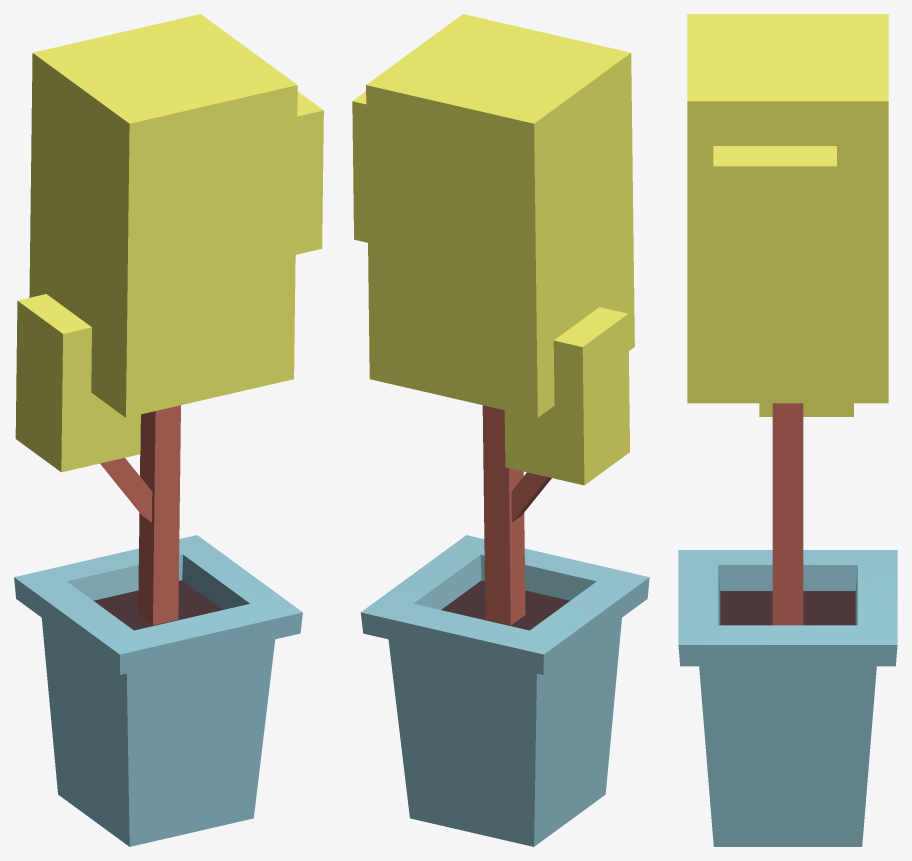
The model's file is Flowerplot.fbx.
3 renders of one model, left to right at view 1: azimuth 30°, elevation 25°; view 2: azimuth 150°, elevation 25°; view 3: azimuth 270°, elevation 25°, orthographic. The views are drawn at different scales.
Parts seen in each view (by area): view 1: pCube12.008, pCube12.002, pCube12.006, pCube12.007, pCube12.009, pCube12.003, pCube12.005, pCube12.004; view 2: pCube12.008, pCube12.002, pCube12.006, pCube12.003, pCube12.005, pCube12.009, pCube12.004; view 3: pCube12.008, pCube12.002, pCube12.009, pCube12.007, pCube12.005, pCube12.006.
Boxes of the visible parts, x1,y1,x2,y2 form: pCube12.008: (29, 14, 297, 417); pCube12.002: (14, 535, 302, 846); pCube12.006: (15, 294, 140, 472); pCube12.007: (153, 405, 180, 625); pCube12.009: (295, 91, 323, 254); pCube12.003: (138, 411, 155, 625); pCube12.005: (93, 580, 221, 630); pCube12.004: (100, 458, 152, 522); pCube12.008: (366, 14, 634, 417); pCube12.002: (360, 535, 649, 846); pCube12.006: (504, 307, 629, 485); pCube12.003: (482, 405, 525, 625); pCube12.005: (441, 580, 569, 630); pCube12.009: (352, 91, 367, 242); pCube12.004: (511, 472, 551, 522); pCube12.008: (687, 14, 888, 403); pCube12.002: (678, 550, 897, 846); pCube12.009: (713, 146, 836, 308); pCube12.007: (772, 403, 803, 625); pCube12.005: (720, 591, 855, 625); pCube12.006: (759, 403, 853, 416).
Bounding box in the file's own units: 4717 × 13829 × 3596.
